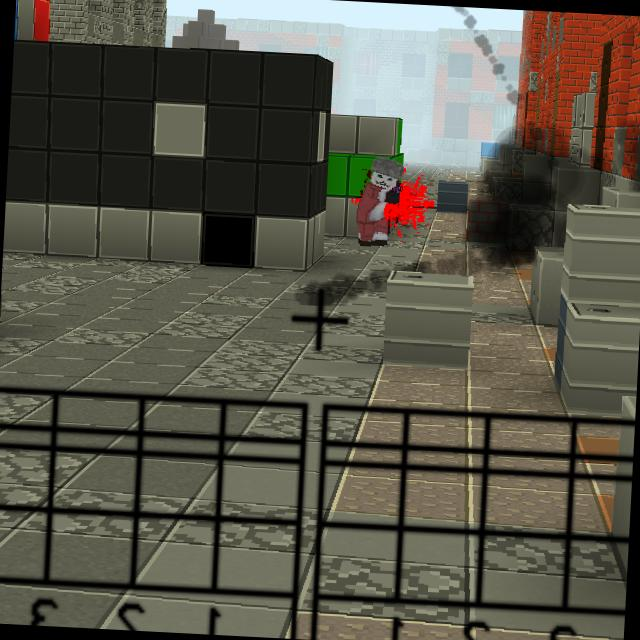enemy: (354, 155, 403, 249)
